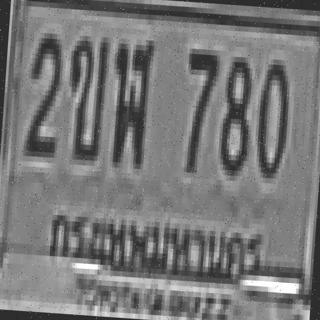A02: (64, 30, 109, 156)
A42: (107, 38, 154, 164)
N00: (253, 53, 289, 174)
N02: (22, 27, 61, 152)
N07: (178, 43, 218, 168)
N08: (217, 51, 251, 171)
P04: (41, 198, 269, 295)
